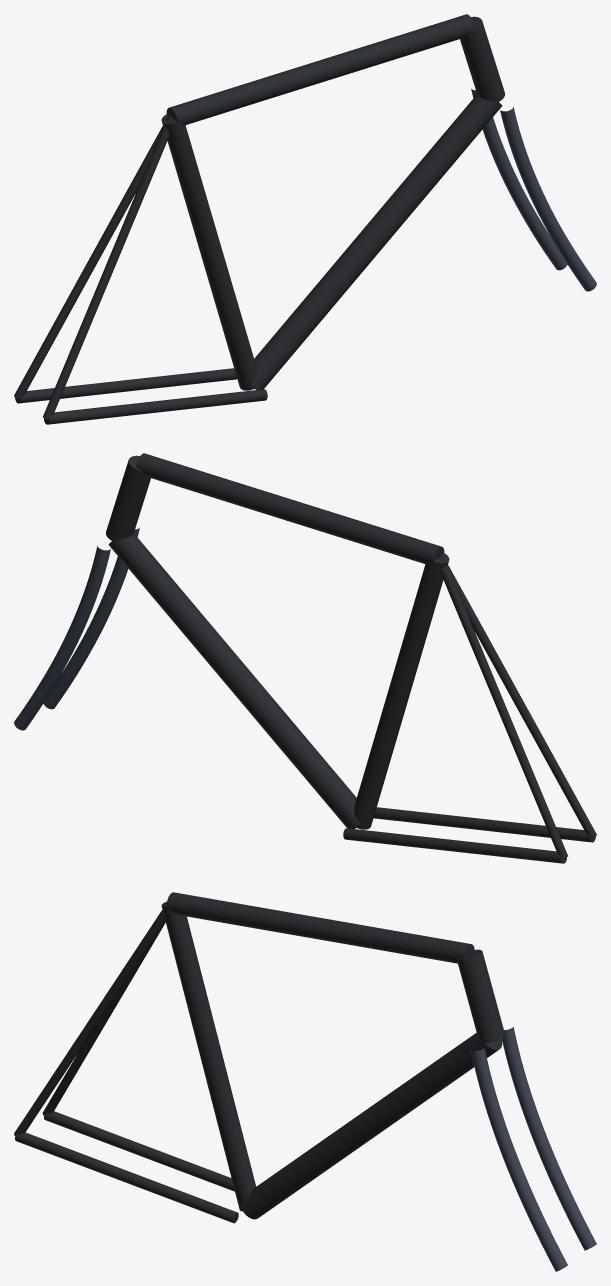
Rendered from 8bar-krzberg-v8-m.glb.
The picture shows the model from 3 angles, top to bottom: view 1: azimuth 30°, elevation 25°; view 2: azimuth 150°, elevation 25°; view 3: azimuth 330°, elevation 25°; orthographic projection.
Visible parts, largest first — view 1: paint_down, paint_top, paint_seat, paint_seatstay_0.045, fork_0.045, paint_seatstay_-0.045, paint_chainstay_0.045, paint_chainstay_-0.045, fork_-0.045, paint_head; view 2: paint_down, paint_top, paint_seat, paint_seatstay_-0.045, fork_-0.045, paint_seatstay_0.045, paint_chainstay_-0.045, paint_chainstay_0.045, fork_0.045, paint_head; view 3: paint_down, paint_top, paint_seat, fork_0.045, fork_-0.045, paint_chainstay_0.045, paint_seatstay_0.045, paint_head, paint_chainstay_-0.045, paint_seatstay_-0.045.
Boxes of the visible parts, x1,y1,x2,y2 form: paint_down: (250, 94, 502, 389); paint_top: (166, 14, 474, 125); paint_seat: (161, 114, 256, 390); paint_seatstay_0.045: (43, 117, 174, 419); fork_0.045: (500, 107, 596, 291); paint_seatstay_-0.045: (14, 115, 171, 399); paint_chainstay_0.045: (44, 389, 267, 424); paint_chainstay_-0.045: (15, 368, 237, 403); fork_-0.045: (471, 88, 567, 270); paint_head: (460, 16, 504, 101); paint_down: (108, 533, 360, 828); paint_top: (136, 453, 444, 564); paint_seat: (354, 553, 449, 829); paint_seatstay_-0.045: (436, 556, 567, 858); fork_-0.045: (14, 546, 110, 730); paint_seatstay_0.045: (439, 554, 596, 838); paint_chainstay_-0.045: (343, 828, 566, 863); paint_chainstay_0.045: (373, 807, 595, 842); fork_0.045: (43, 527, 139, 709); paint_head: (106, 455, 150, 540); paint_down: (240, 1033, 502, 1219); paint_top: (166, 892, 474, 963); paint_seat: (161, 901, 256, 1211); fork_0.045: (471, 1048, 567, 1271); fork_-0.045: (501, 1027, 596, 1250); paint_chainstay_0.045: (15, 1132, 238, 1223); paint_seatstay_0.045: (14, 903, 166, 1135); paint_head: (457, 949, 504, 1042); paint_chainstay_-0.045: (44, 1111, 234, 1191); paint_seatstay_-0.045: (42, 921, 165, 1115).
Size of the model in its own units: 0.9933 by 0.5586 by 0.112.
